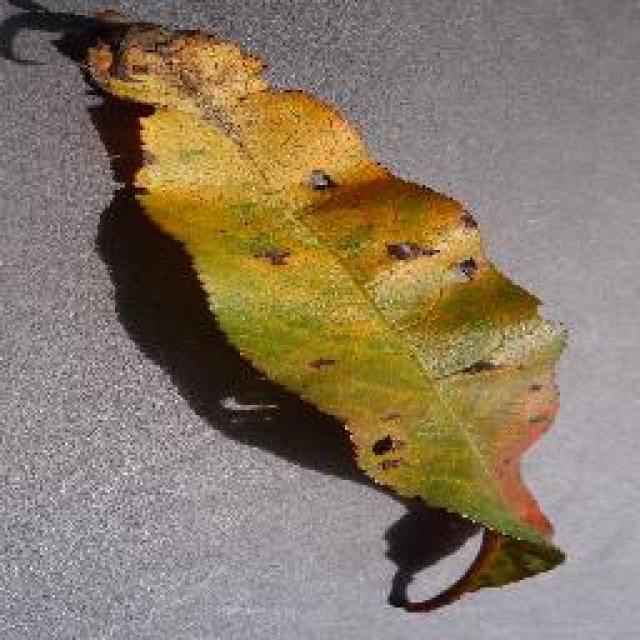Peach_Bacterial_Spot: (128, 38, 497, 392)
